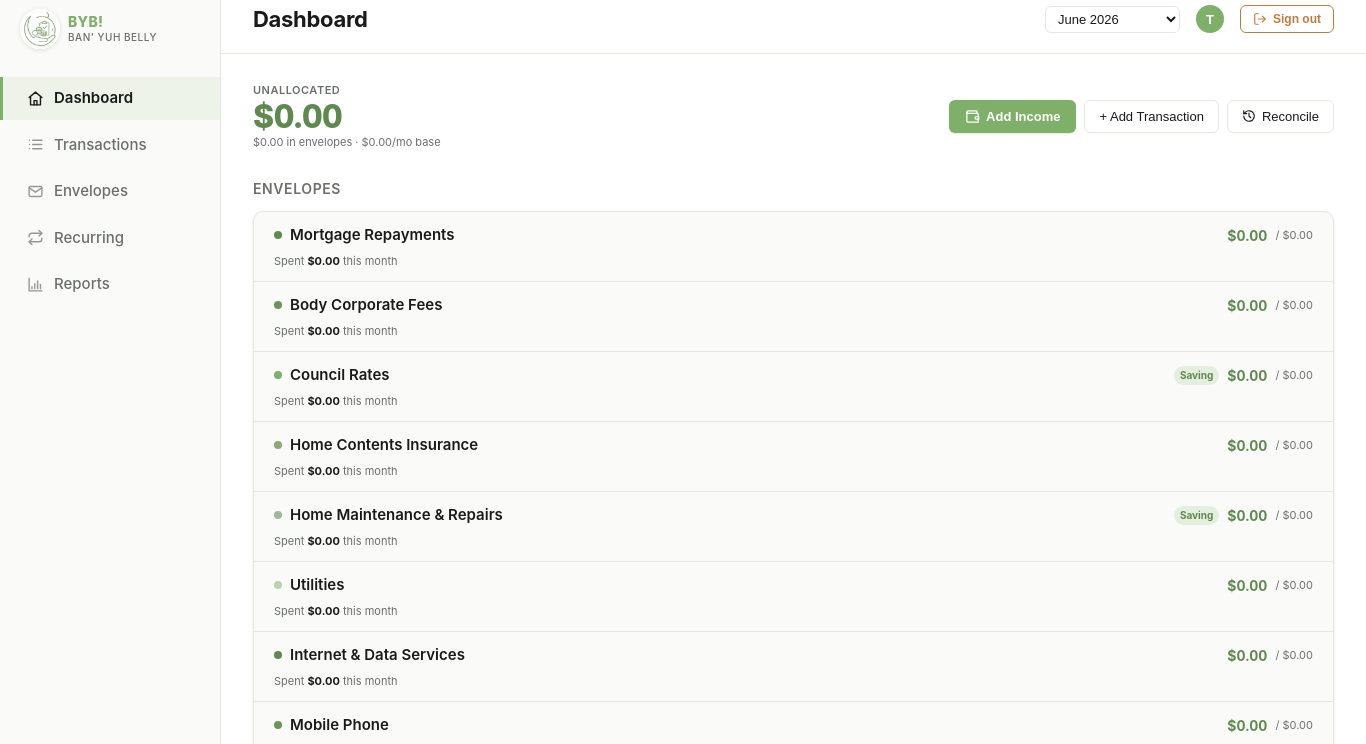
Test: Add Income flow › income kept unallocated raises the unallocated balance and logs a transaction
Click the button with test id "add-income-btn" at [1013, 116], box [949, 100, 1076, 133]
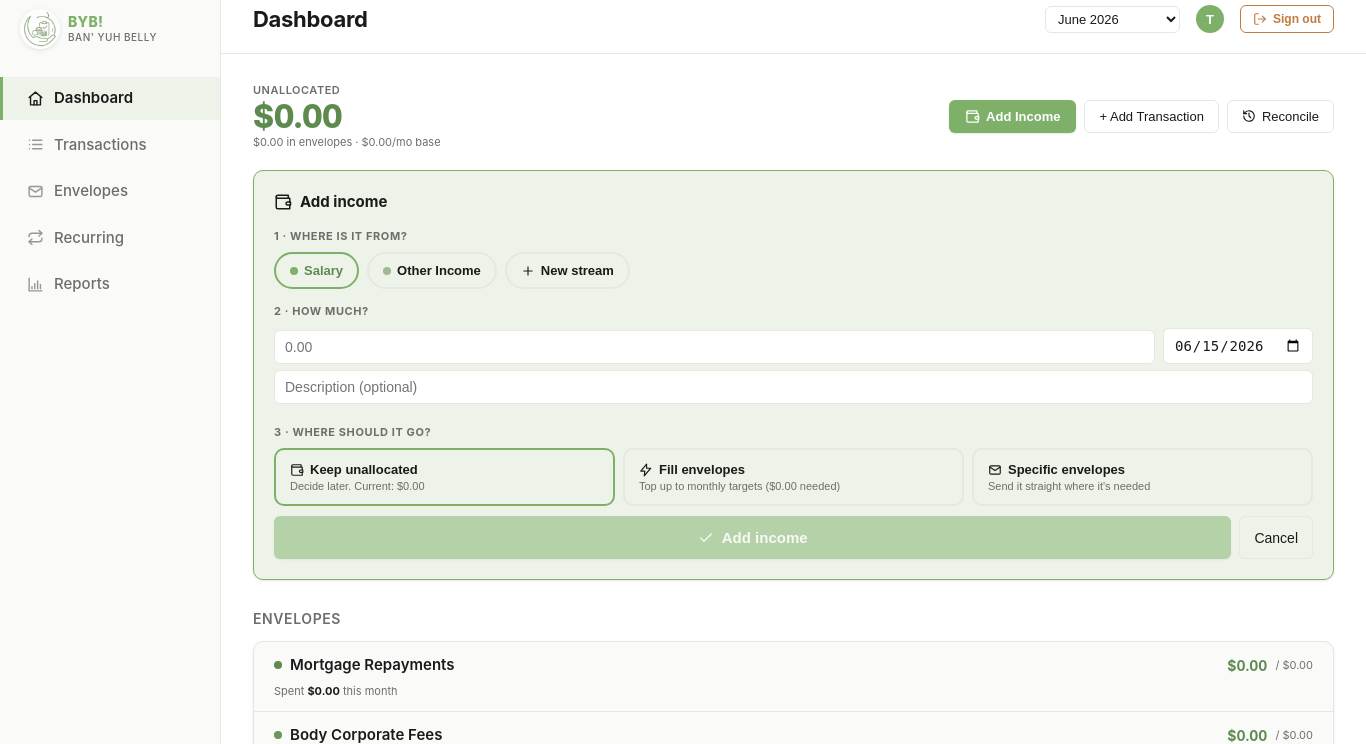
Type "1000" into the number field with test id "income-amount" at [714, 347], box [274, 330, 1155, 364]
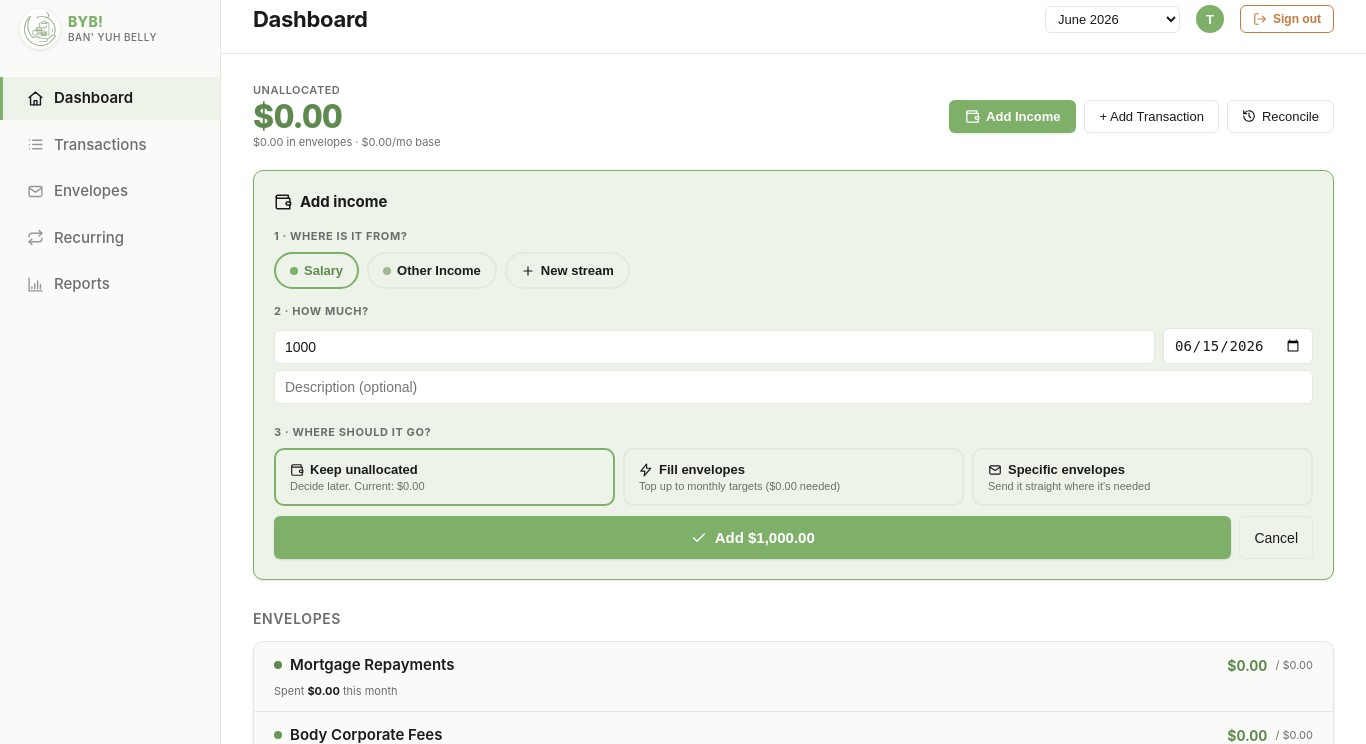
Click the button with test id "income-submit" at [753, 538], box [274, 516, 1231, 559]
(page scrolled)
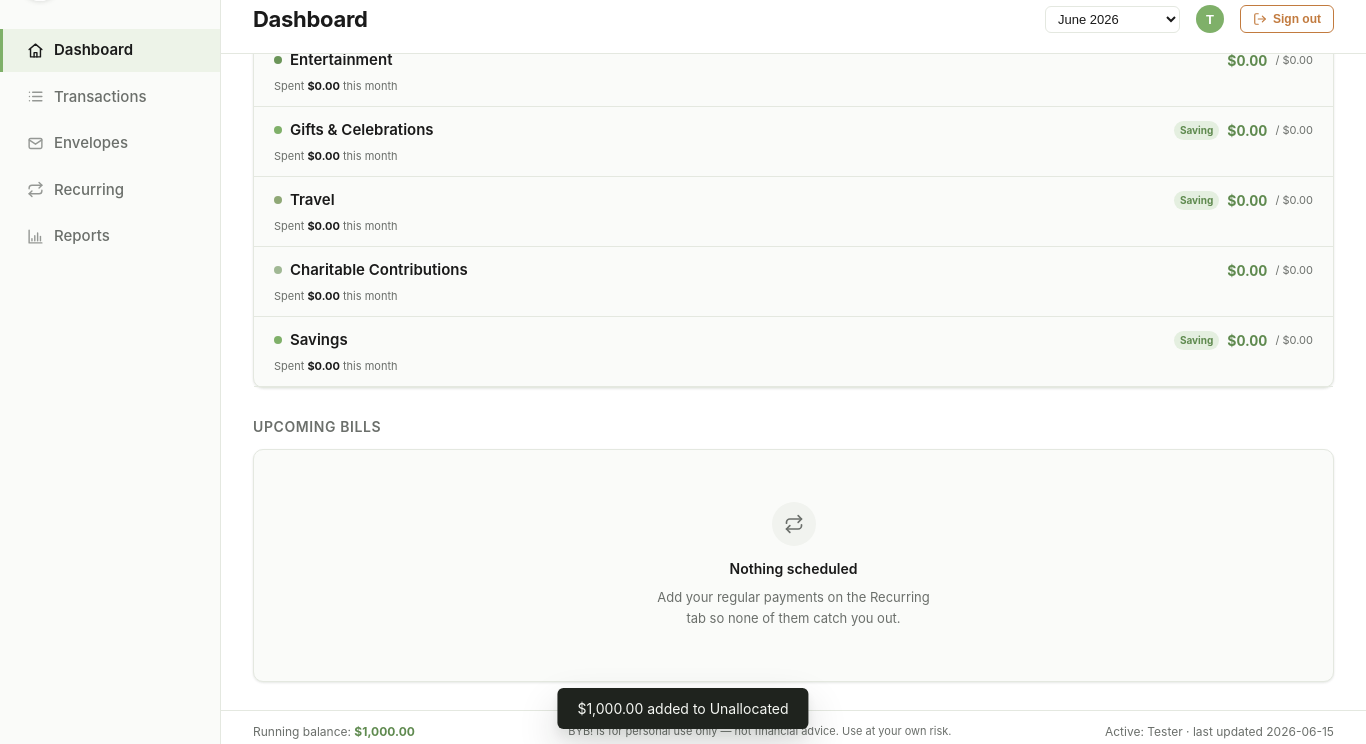
Result: the text with test id "running-balance" reads "$1,000.00" at [354, 724, 415, 739]
